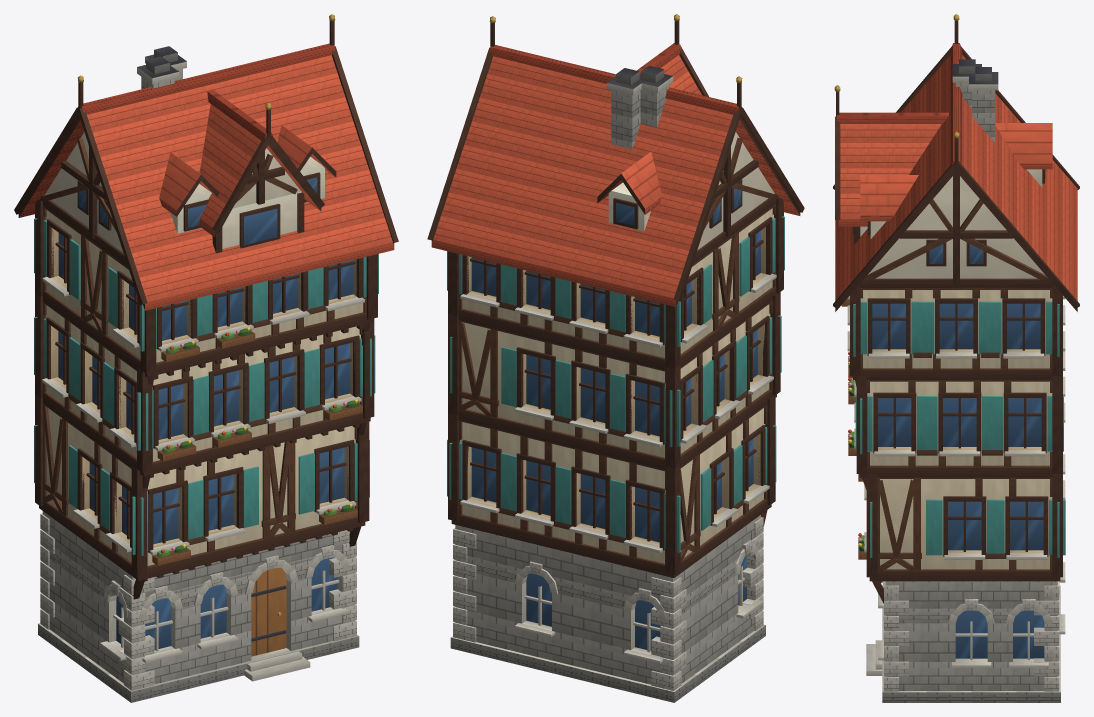
Rendered from res_apartment_01.glb.
3 views of the same model, side by side, from view 1: azimuth 30°, elevation 25°; view 2: azimuth 150°, elevation 25°; view 3: azimuth 270°, elevation 25° (orthographic). The views are drawn at different scales.
Parts seen in each view (by area): view 1: res_apartment_01; view 2: res_apartment_01; view 3: res_apartment_01.
Part boxes in pixels (box(x1,y1,x2,y2)): res_apartment_01: box(14, 14, 398, 702); res_apartment_01: box(427, 14, 804, 702); res_apartment_01: box(833, 14, 1079, 702).
Bounding box in the file's own units: 8.45 × 18.94 × 7.34.
1 material, 1 textured.
